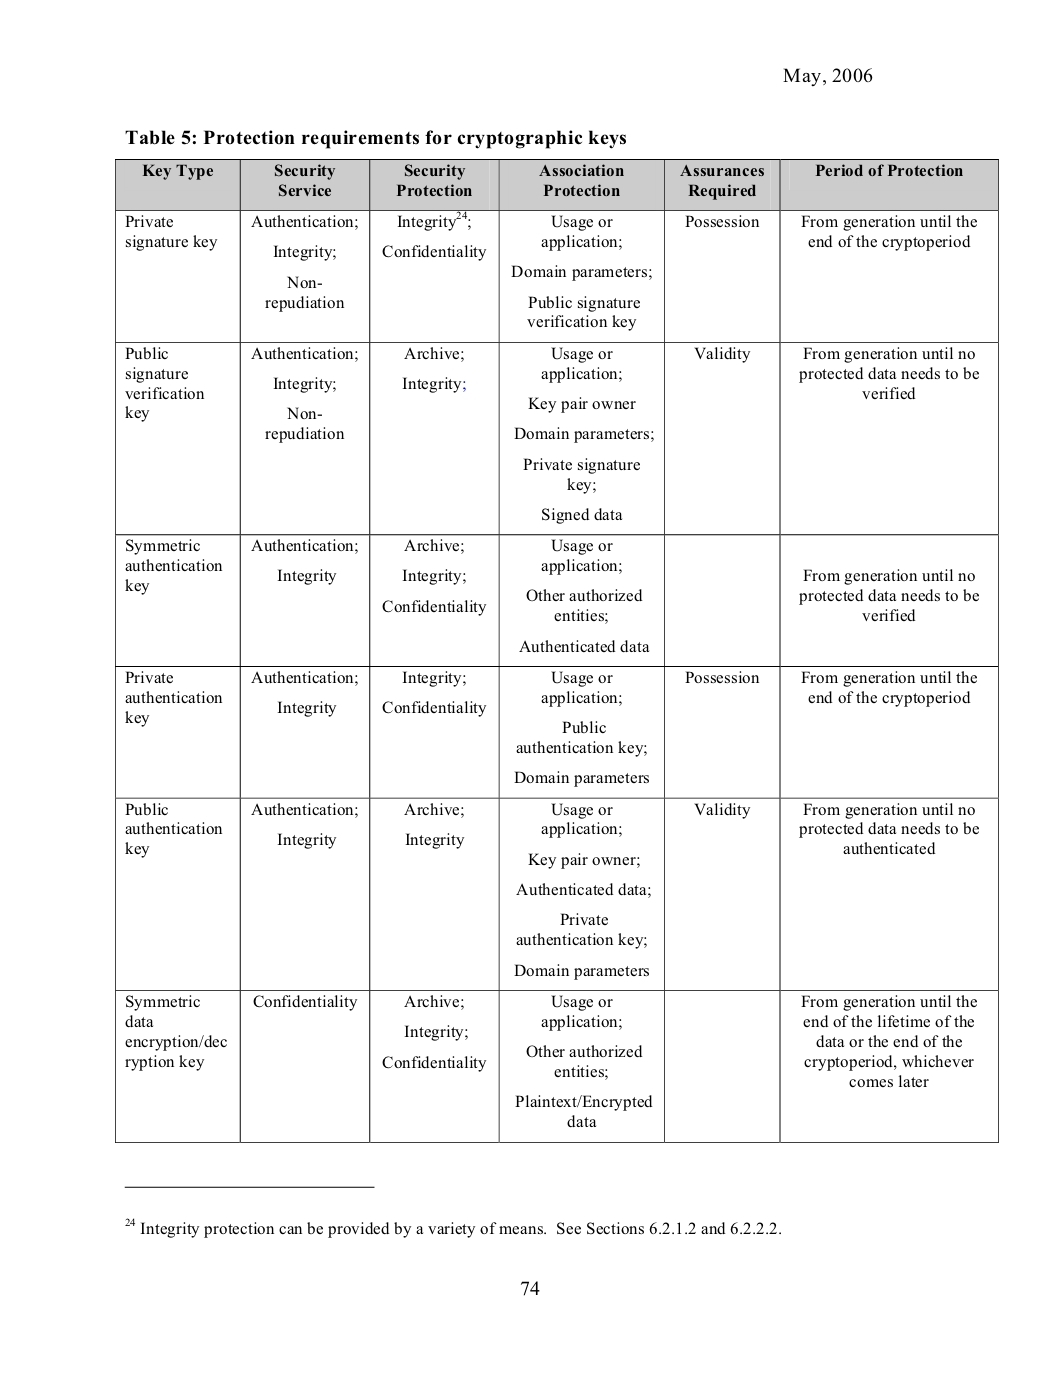Table: (115, 158, 997, 1143)
